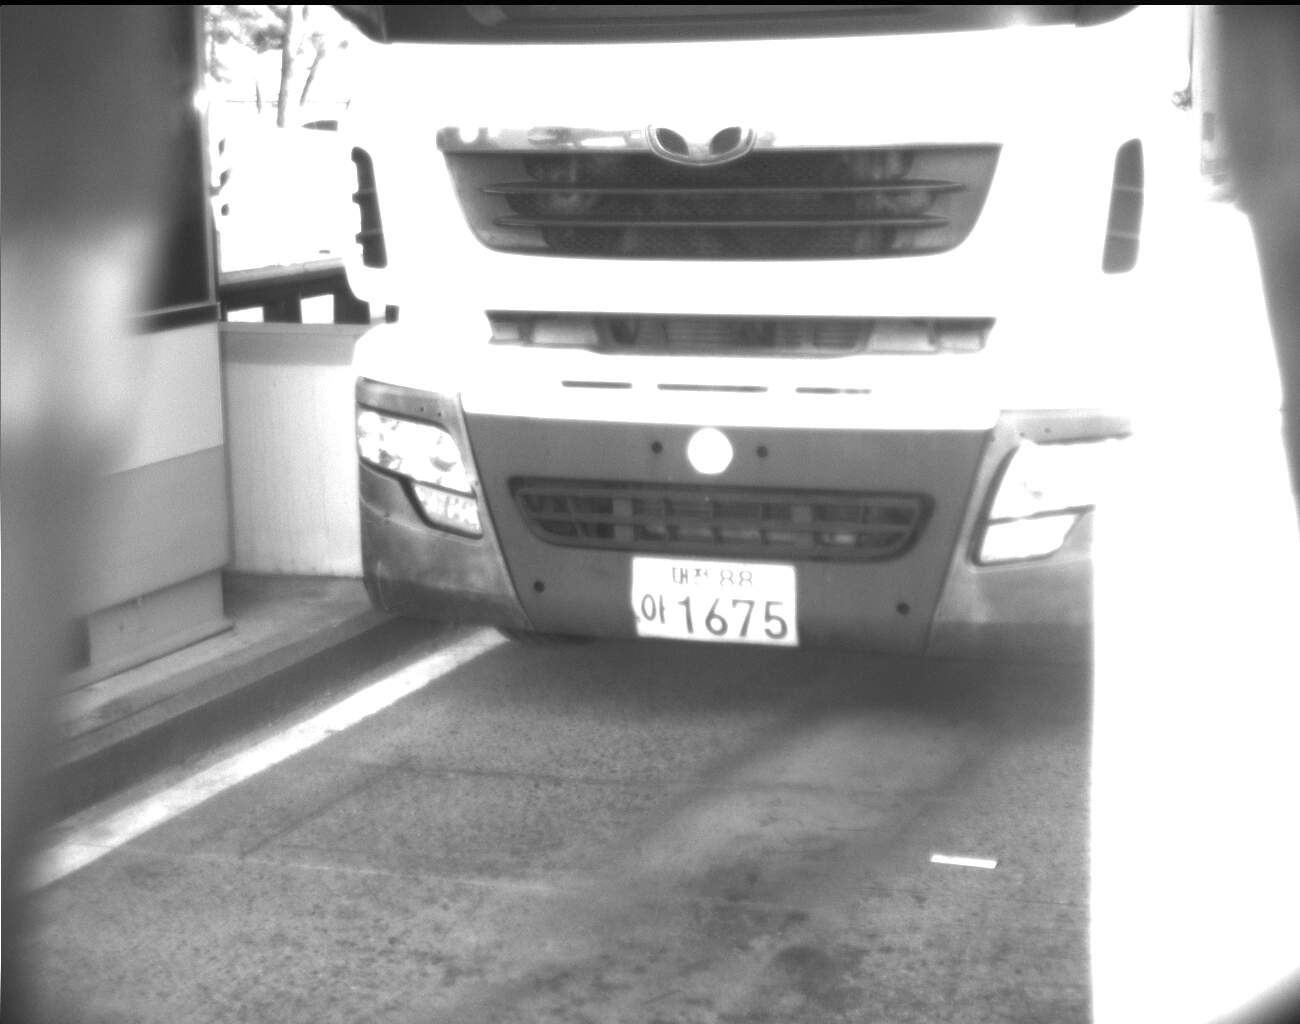car: (328, 3, 1204, 703)
plate: (630, 557, 799, 648)
